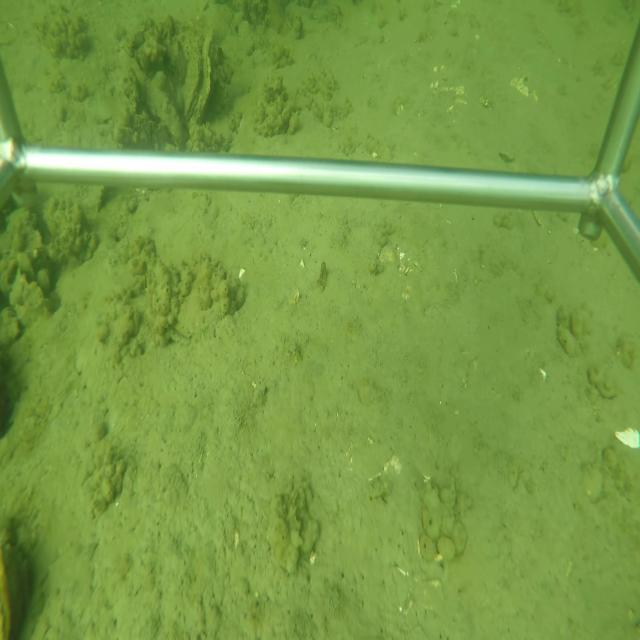Oyster-Closed: (197, 23, 217, 123), (181, 39, 204, 120)
